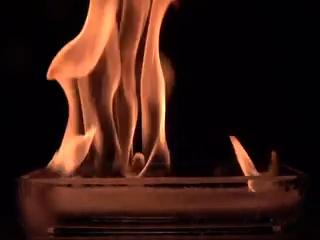Fire: (97, 1, 256, 179)
